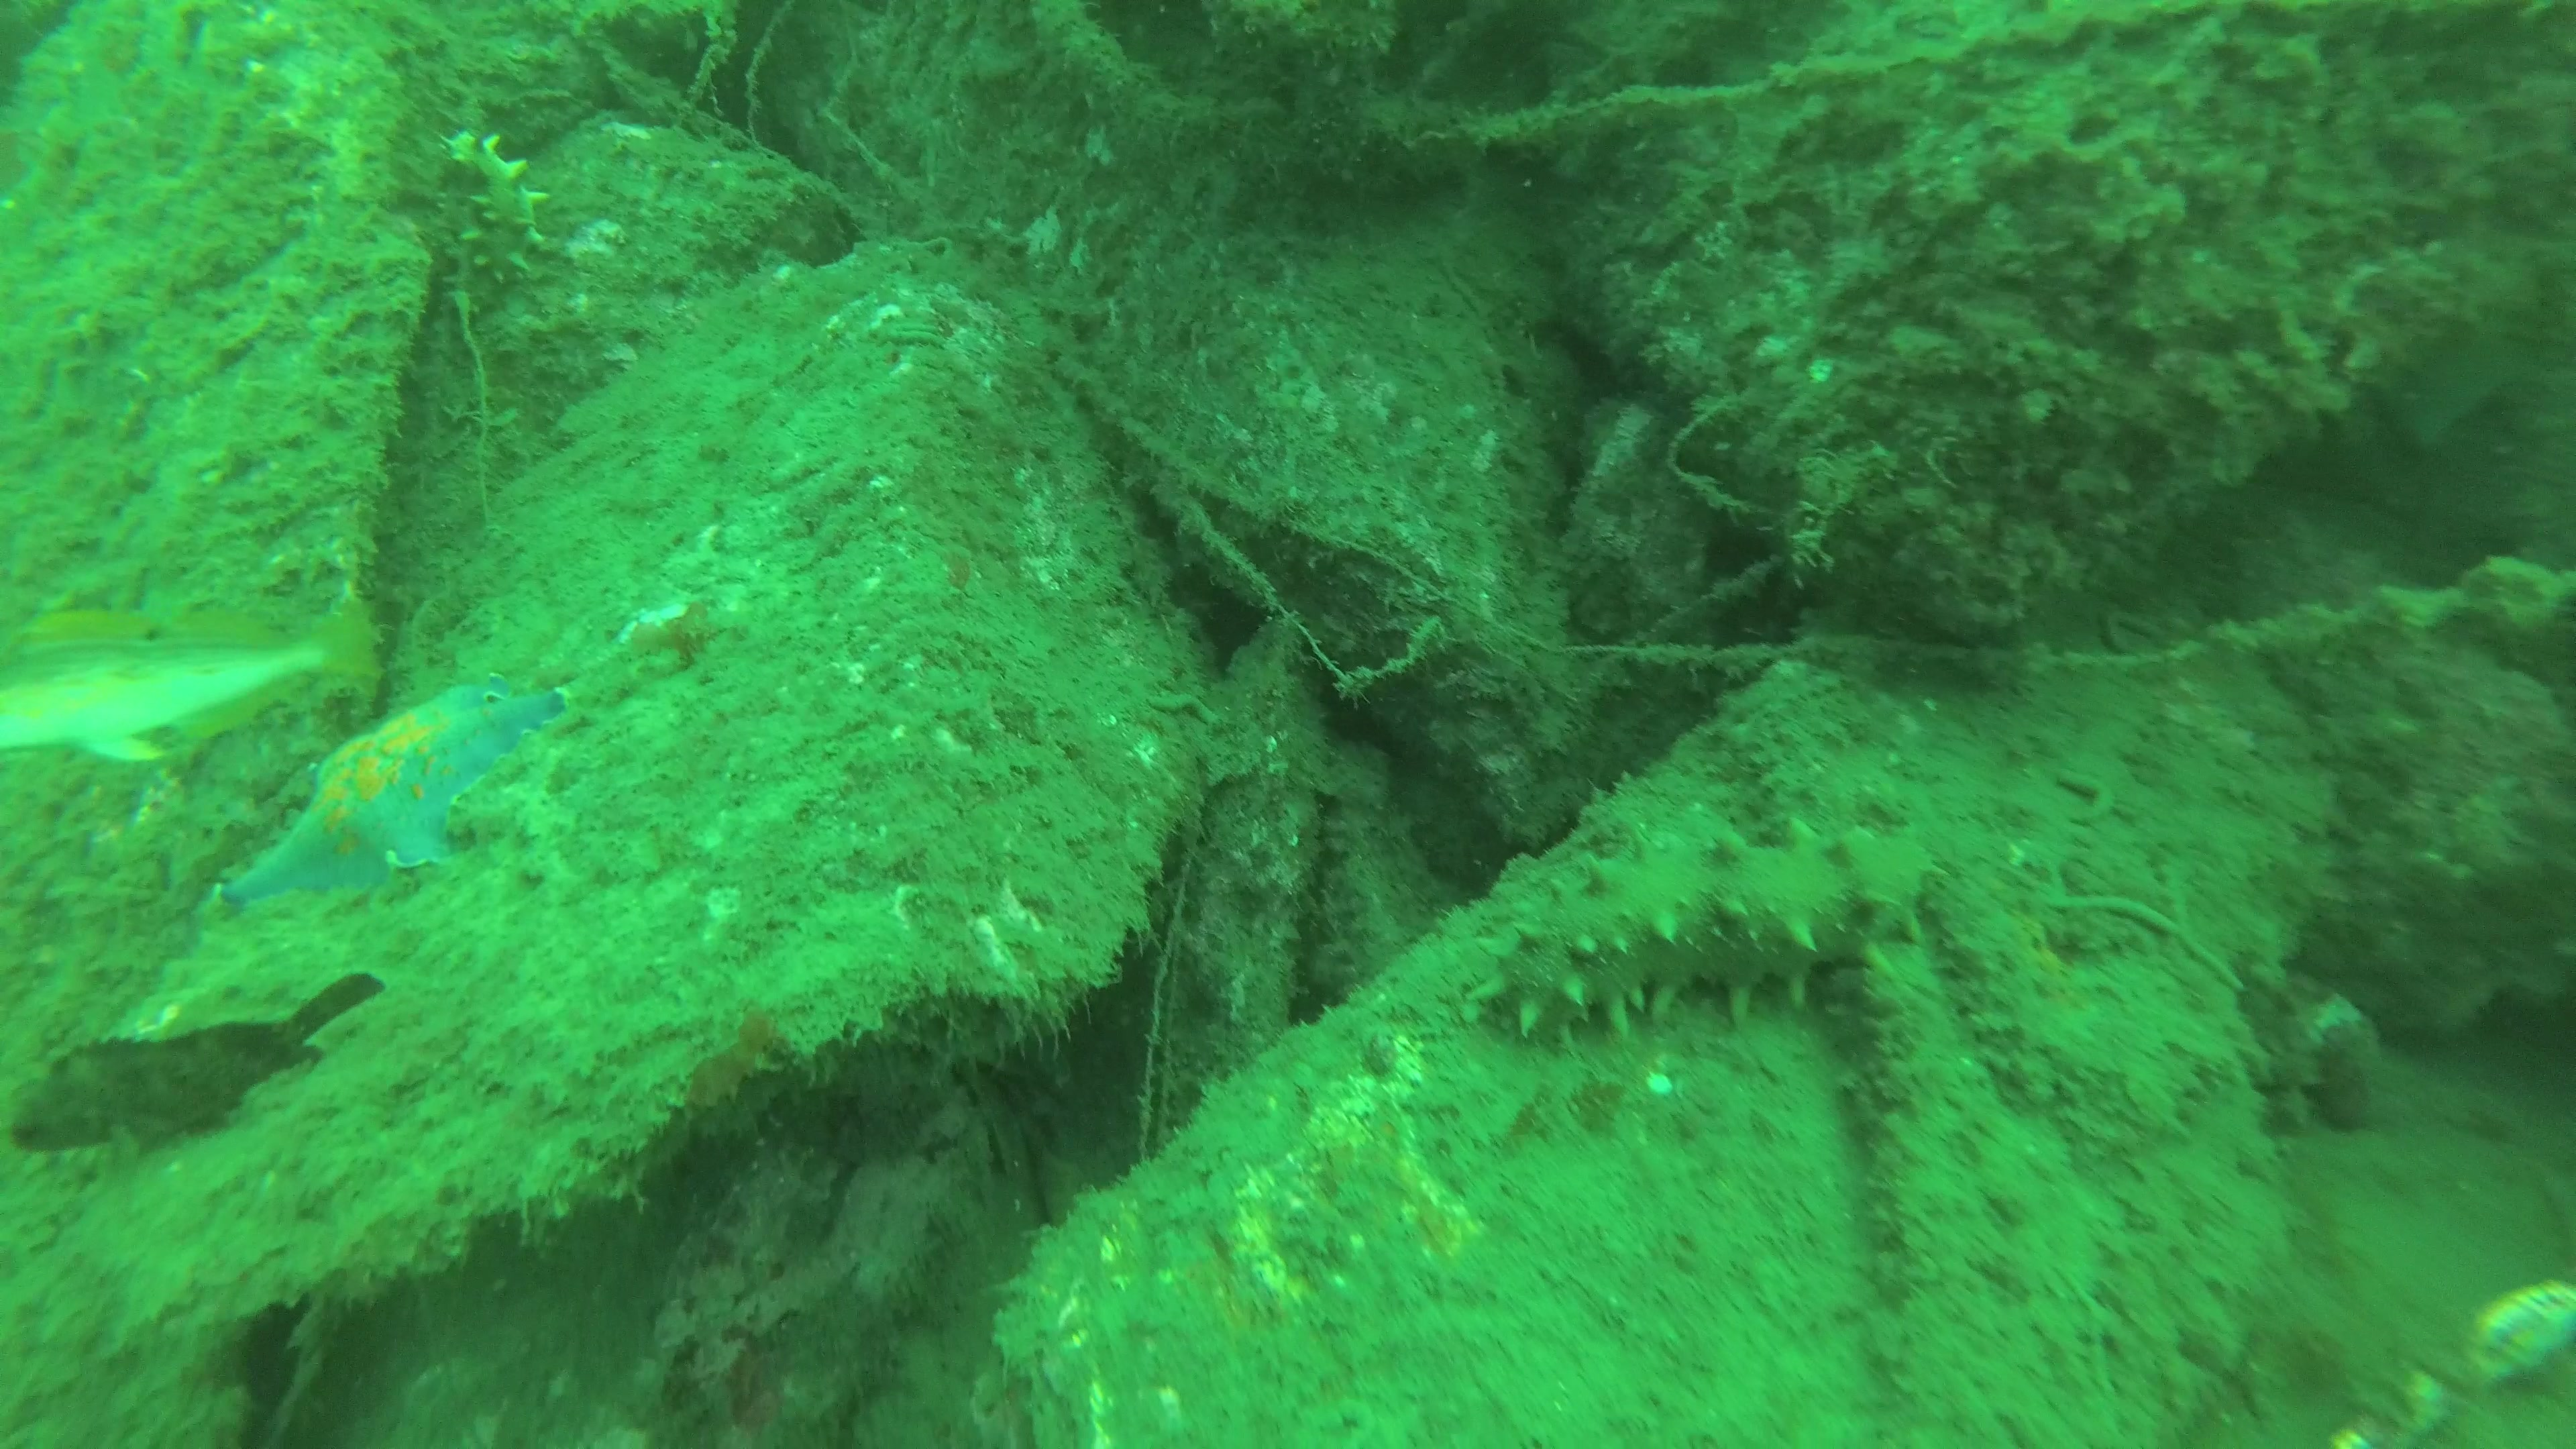holothurian: (1463, 816, 1939, 1056), (430, 119, 554, 322)
starfish: (209, 671, 582, 918)
